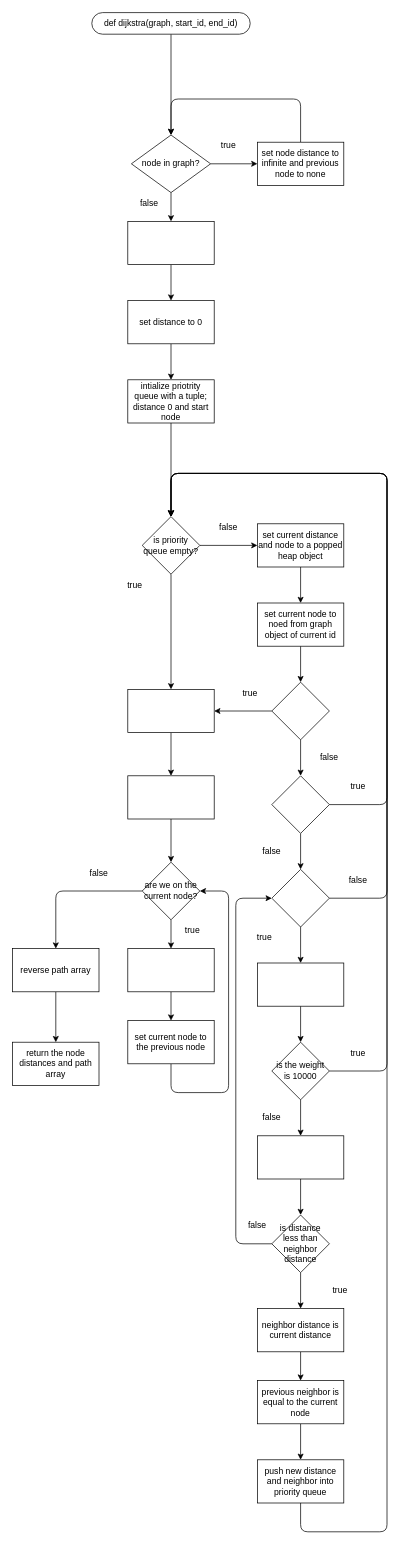
The diagram is 405 pixels wide and 1550 high, and some of its shapes have lost their labels. The centre of each missing label's shape, as x and y in pixels:
"append node to path" goes at (x=170, y=970).
"current node is equal to the end node in the graph object" goes at (x=170, y=797).
"distnace is the current distance with the weight" goes at (x=300, y=1157).
"intialize the path" goes at (x=170, y=711).
"is current distance greater than current node distance" goes at (x=300, y=804).
"is current id the end id" goes at (x=300, y=710).
"is neighbor in current node neighbors" goes at (x=300, y=898).
"set start node from the graph object" goes at (x=170, y=243).
"weight = current node weight from it to neighbor" goes at (x=300, y=984).
